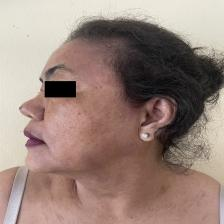DA: (67, 111, 120, 151)
